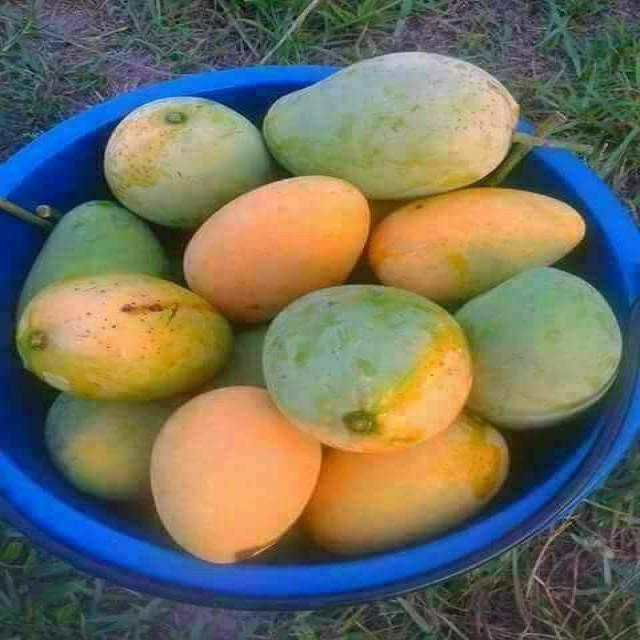mango: (263, 52, 518, 198), (263, 285, 471, 452), (151, 386, 321, 562), (303, 414, 509, 554), (16, 274, 233, 400), (184, 176, 369, 322), (456, 268, 622, 428), (368, 188, 585, 304), (104, 97, 274, 227), (19, 201, 169, 314), (46, 393, 179, 500), (347, 200, 406, 283), (207, 325, 267, 388)
